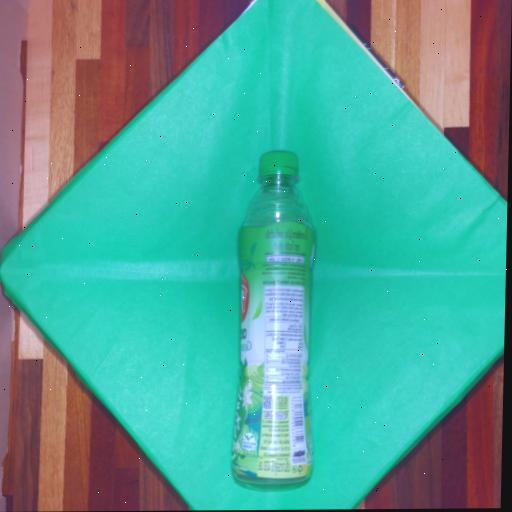bottle: (232, 146, 319, 486)
